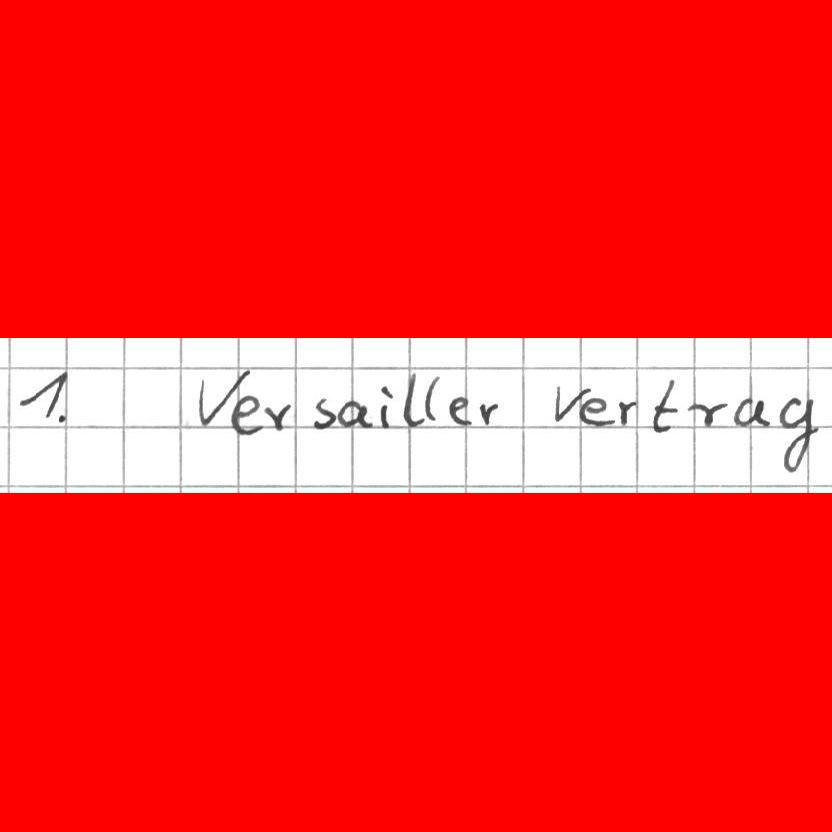Char: (775, 393, 818, 478), (196, 367, 244, 431), (17, 370, 68, 426), (649, 378, 681, 435), (732, 393, 774, 429), (552, 382, 586, 426), (683, 398, 728, 430), (230, 393, 262, 436), (577, 394, 615, 429), (401, 373, 422, 428), (422, 372, 444, 423), (261, 400, 292, 433), (338, 401, 371, 431), (312, 394, 338, 429), (377, 384, 395, 430), (447, 392, 470, 427), (615, 397, 639, 427), (476, 397, 499, 426)
